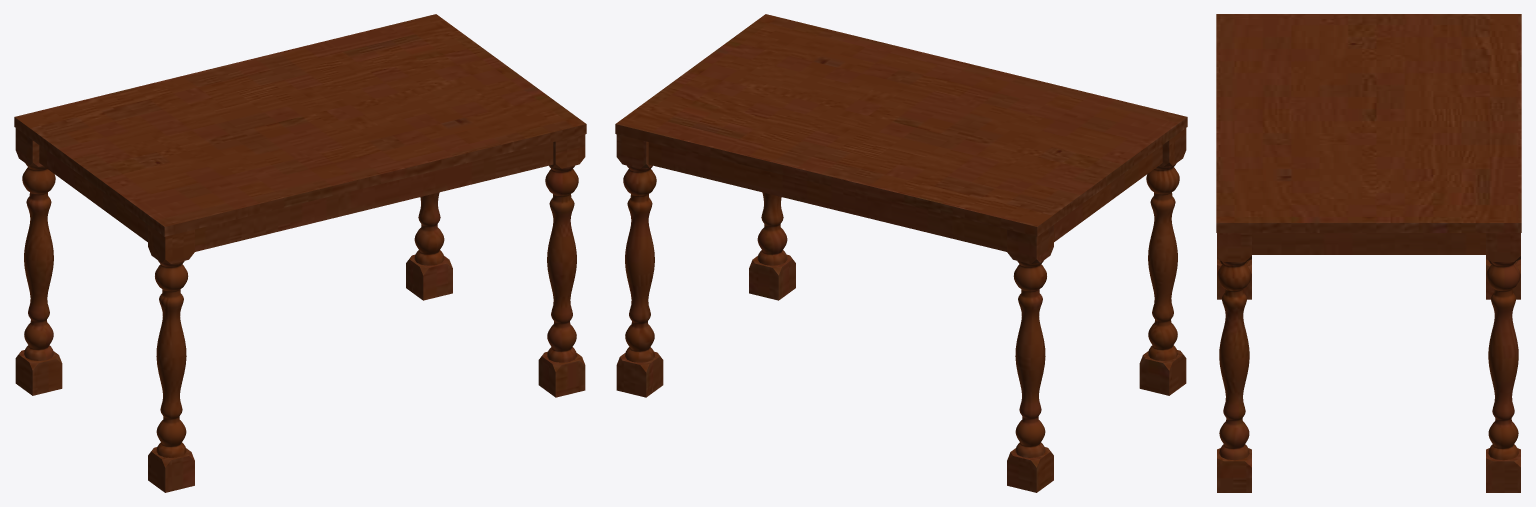
The model's file is Table13.glb.
The picture shows the model from 3 angles, left to right: view 1: azimuth 30°, elevation 25°; view 2: azimuth 150°, elevation 25°; view 3: azimuth 270°, elevation 25°; orthographic projection.
Visible parts, largest first — view 1: Table13_model; view 2: Table13_model; view 3: Table13_model.
Part boxes in pixels (<box>): Table13_model: <box>14,14,586,492</box>; Table13_model: <box>615,14,1187,492</box>; Table13_model: <box>1216,14,1521,492</box>.
Size of the model in its own units: 2.64 by 1.59 by 1.63.
1 material, 1 textured.
